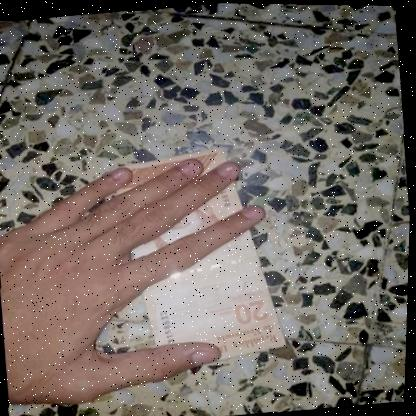twenty-front-vef: (105, 137, 294, 371)
